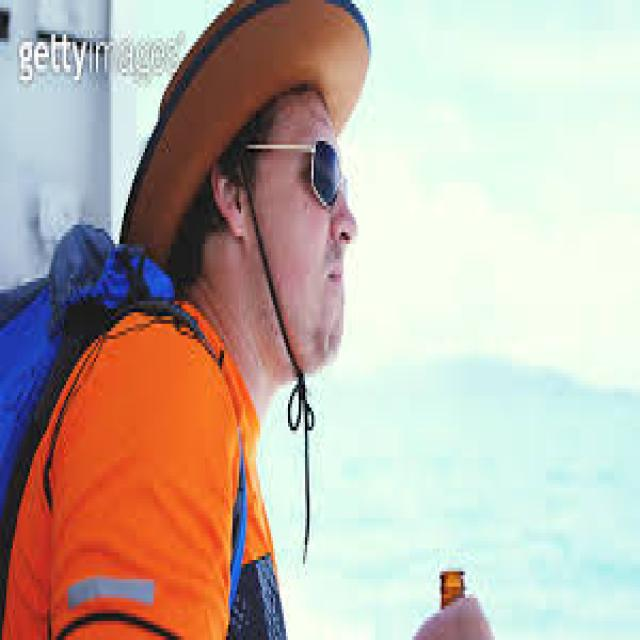hat: (118, 0, 374, 385)
